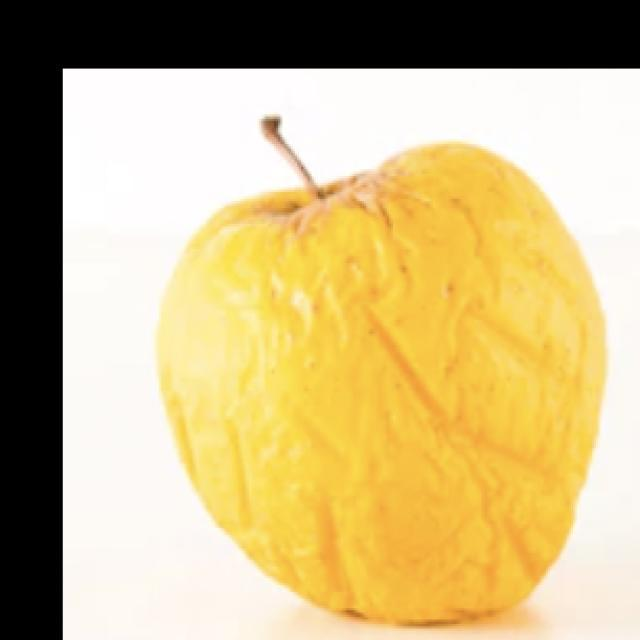Rotten: (190, 145, 620, 640)
